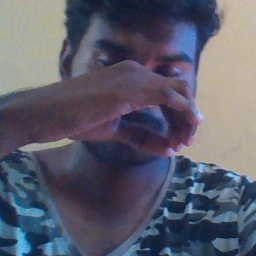O: (61, 55, 203, 161)
